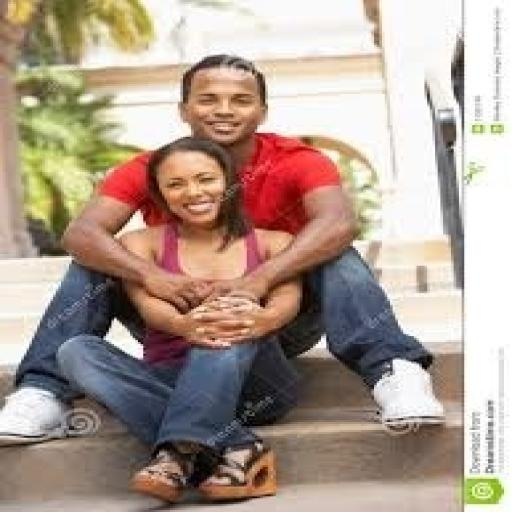sitting: (0, 53, 446, 447), (53, 135, 310, 504)
